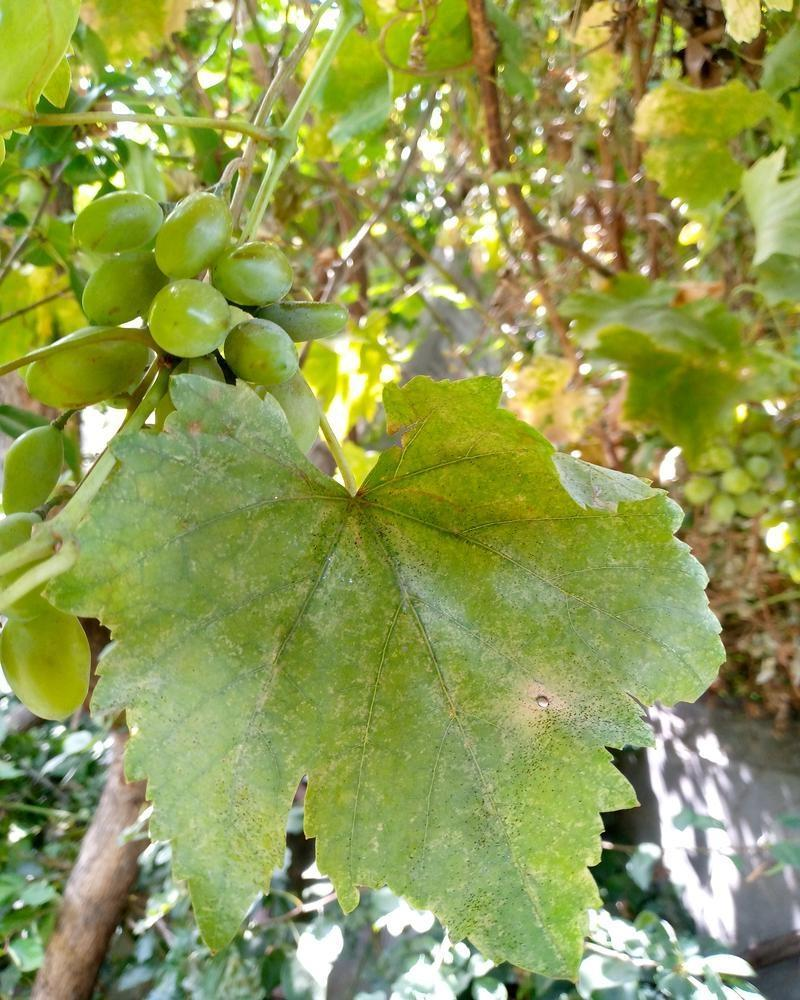Powdery-Mildew: (508, 539, 603, 634), (388, 565, 483, 660), (610, 603, 705, 698), (490, 658, 585, 753), (183, 797, 278, 892)
